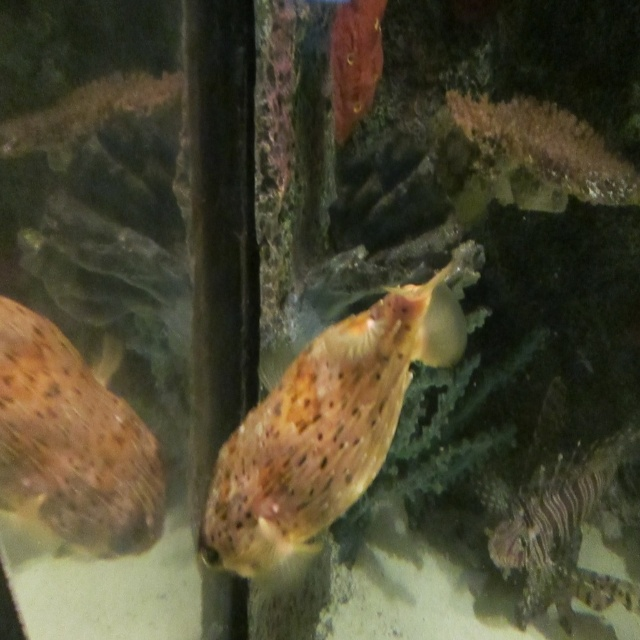Fish: (188, 258, 476, 609), (482, 419, 640, 639)
